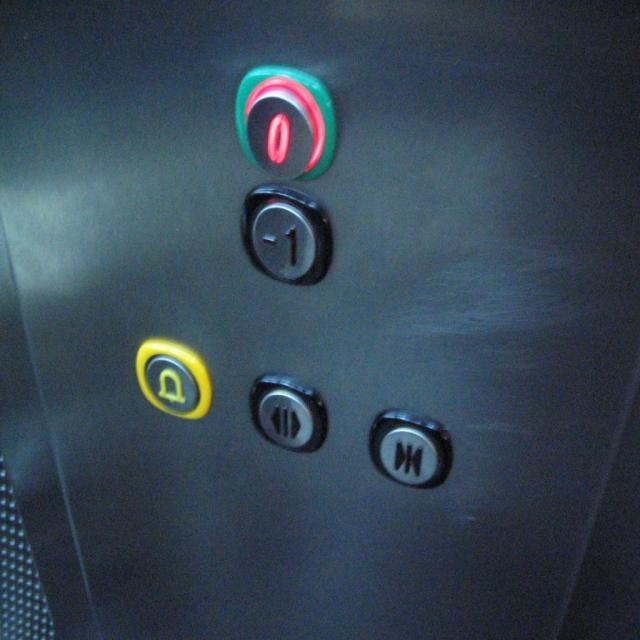-1: (239, 184, 333, 284)
0: (234, 64, 336, 179)
alarm: (134, 339, 211, 420)
close: (367, 410, 452, 488)
open: (249, 374, 329, 454)
